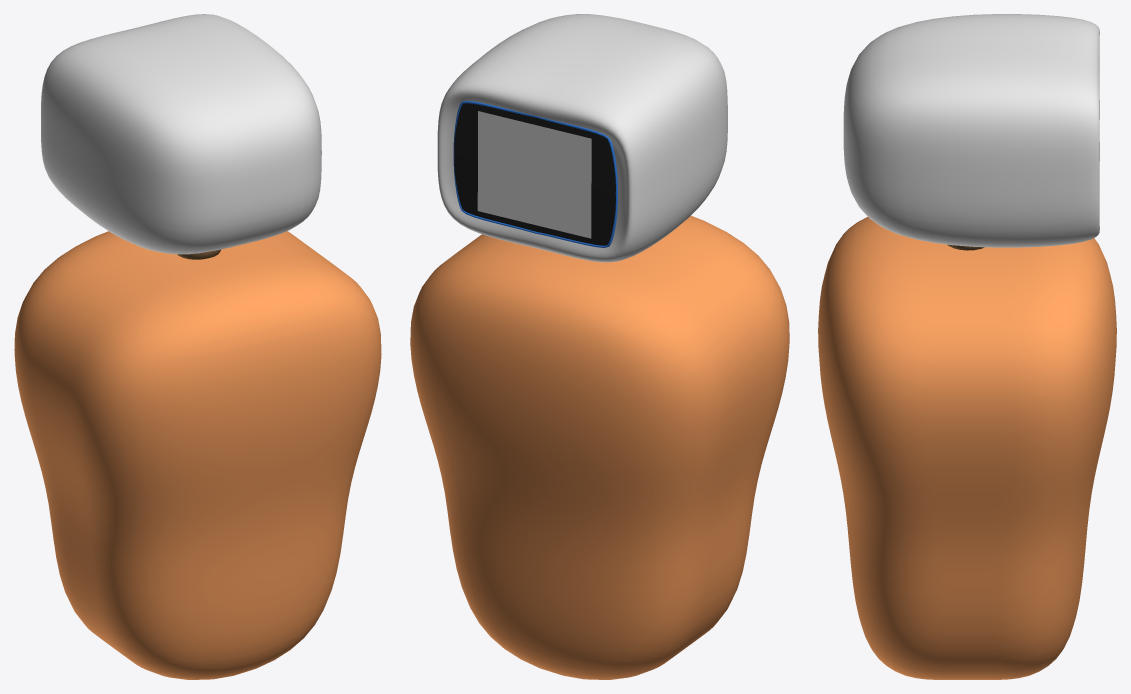
Rendered from Hero_robot.glb.
3 renders of one model, left to right at view 1: azimuth 30°, elevation 25°; view 2: azimuth 150°, elevation 25°; view 3: azimuth 270°, elevation 25°, orthographic. The views are drawn at different scales.
Parts seen in each view (by area): view 1: torso, headCore; view 2: torso, headCore, displayImg, display, displayBorder; view 3: torso, headCore.
Boxes of the visible parts, box(x1,y1,x2,y2) form: torso: box(14, 231, 381, 679); headCore: box(41, 14, 321, 254); torso: box(410, 215, 789, 679); headCore: box(437, 14, 727, 262); displayImg: box(477, 111, 591, 238); display: box(454, 103, 615, 245); displayBorder: box(453, 101, 617, 247); torso: box(818, 217, 1116, 679); headCore: box(843, 14, 1099, 247).
Size of the model in its own units: 6.36 by 12.32 by 5.4.
